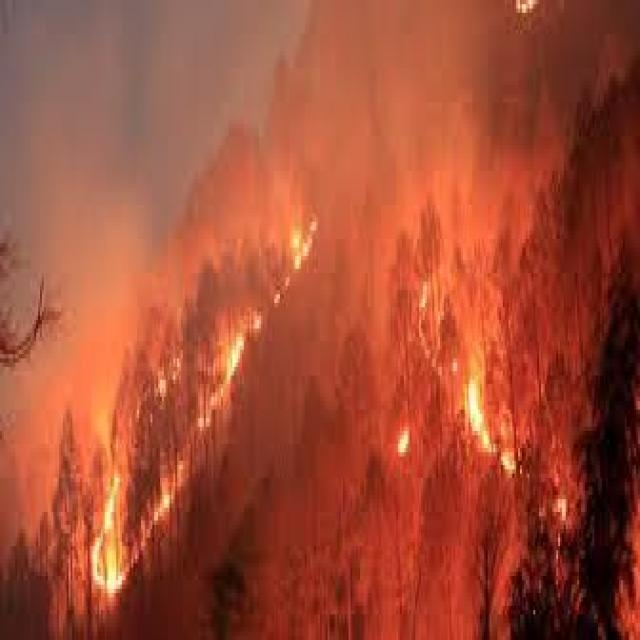Fire: (87, 219, 317, 594), (459, 369, 504, 466), (414, 274, 434, 324), (396, 424, 412, 468), (556, 487, 568, 531)
Smoke: (5, 0, 307, 513)
